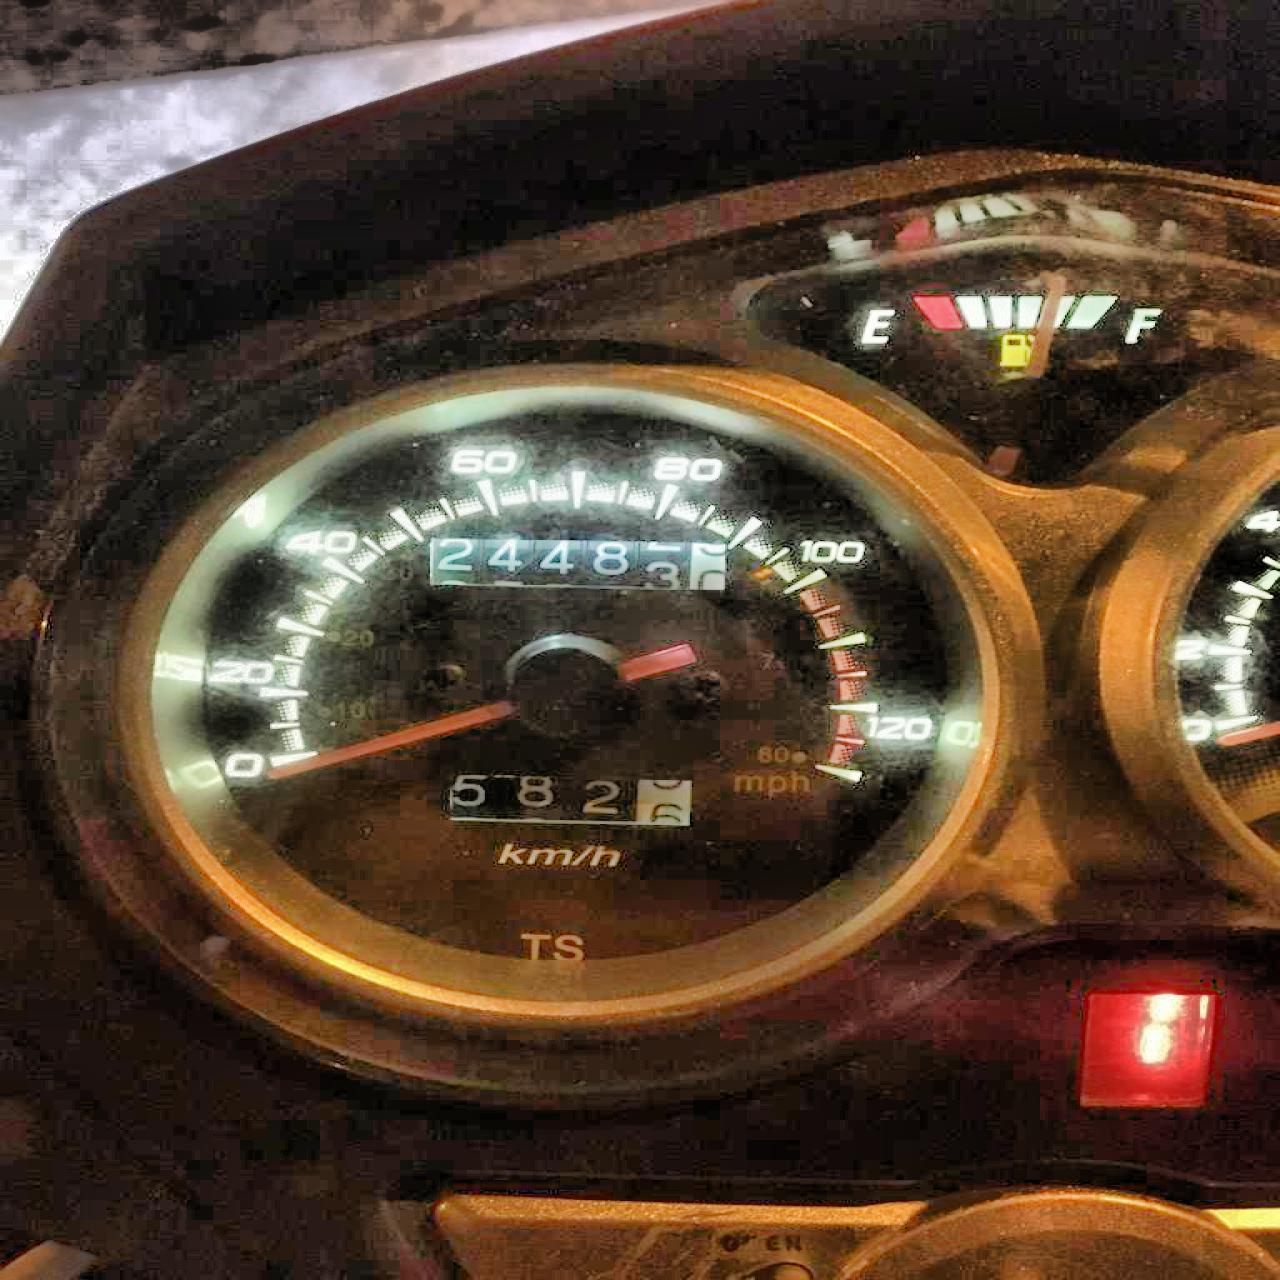0: (695, 566, 727, 599)
2: (434, 537, 474, 572)
3: (641, 558, 680, 593)
4: (537, 539, 576, 576), (486, 538, 523, 572)
8: (588, 540, 629, 576)
odometer: (416, 530, 736, 594)
